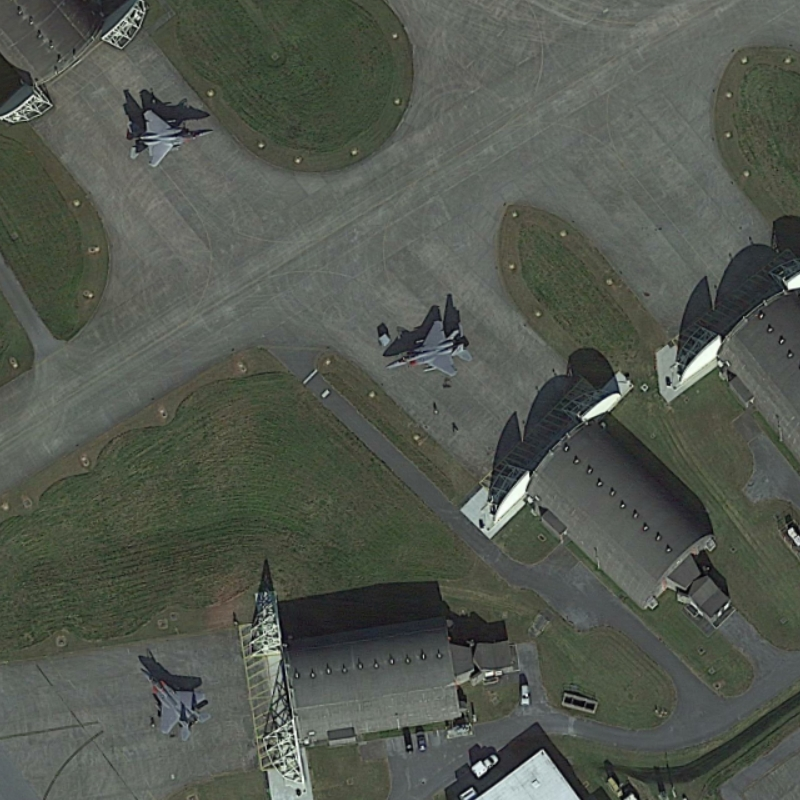A13: (136, 664, 215, 743), (126, 105, 215, 167), (382, 318, 474, 376)
